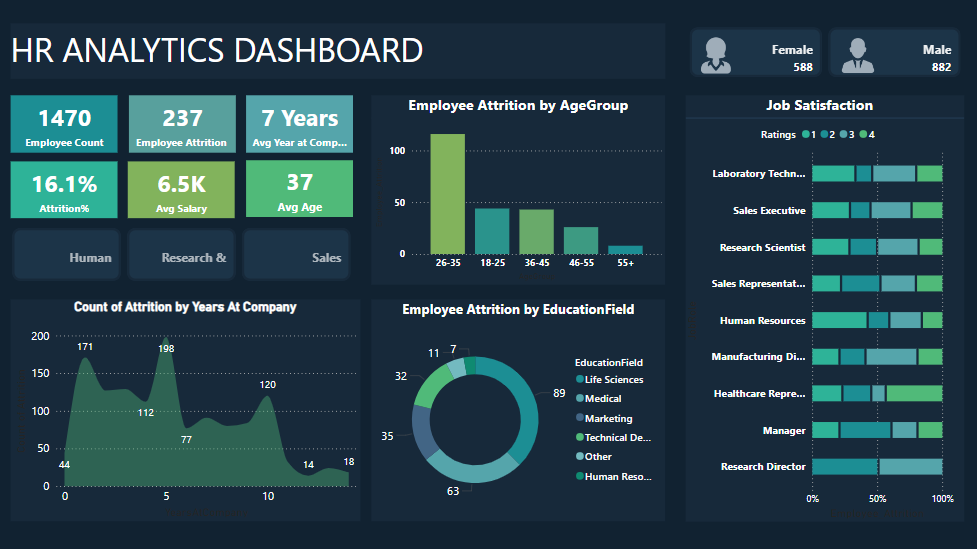

The page's visual inventory and layout, read from the dashboard file:
{"tool":"powerbi","page":{"name":"Page 1","canvas":[1280,720],"ordinal":0},"visuals":[{"type":"image","box":[1094.2,36.3,56,75.8],"z":0},{"type":"image","box":[908,44.5,57.7,59.3],"z":1000},{"type":"advancedSlicerVisual","fields":{"Values":["HR_Analytics (1).Gender"]},"box":[896.5,31.3,364.2,75.8],"z":2000},{"type":"areaChart","title":"Count of Attrition by Years At Company","fields":{"Y":["CountNonNull(HR_Analytics (1).Attrition)"],"Category":["HR_Analytics (1).YearsAtCompany"]},"box":[14.8,392.2,456.5,290],"z":3000},{"type":"card","fields":{"Values":["HR_Analytics (1).Years_with_Text"]},"box":[323,125.2,140,75],"z":4000},{"type":"card","fields":{"Values":["HR_Analytics (1).Employee_Count"]},"box":[14.8,125.2,140,75],"z":5000},{"type":"card","fields":{"Values":["HR_Analytics (1).Attrition%"]},"box":[14.8,212.6,140.1,74.2],"z":6000},{"type":"card","fields":{"Values":["HR_Analytics (1).Avg_Age"]},"box":[323,210.9,140.1,74.2],"z":7000},{"type":"donutChart","title":"Employee Attrition by EducationField","fields":{"Y":["HR_Analytics (1).Employee_Attrition"],"Category":["HR_Analytics (1).EducationField"]},"box":[486.1,392.2,384,290],"z":8000},{"type":"clusteredColumnChart","title":"Employee Attrition by AgeGroup","fields":{"Category":["HR_Analytics (1).AgeGroup"],"Y":["HR_Analytics (1).Employee_Attrition"]},"box":[486.1,125.2,384,247.2],"z":9000},{"type":"hundredPercentStackedBarChart","title":"Job Satisfaction","fields":{"Category":["HR_Analytics (1).JobRole"],"Y":["HR_Analytics (1).Employee_Attrition"],"Series":["HR_Analytics (1).JobSatisfaction"]},"box":[896.5,125.2,364.2,557],"z":10000},{"type":"card","fields":{"Values":["HR_Analytics (1).Employee_Attrition"]},"box":[169.7,125.2,140,75],"z":11000},{"type":"card","fields":{"Values":["HR_Analytics (1).Avg_Salary"]},"box":[168.1,212.6,140.1,74.2],"z":12000},{"type":"advancedSlicerVisual","fields":{"Values":["HR_Analytics (1).Department"]},"box":[11.5,293.3,454.8,79.1],"z":13000},{"type":"textbox","box":[14.8,31.3,855.3,72.5],"z":14000}]}

Visuals, with their boxes in screenshot pixels (x1, y1, x2, y2), scaled from the page's 1280x720 canvas onto the 977x549 screenshot:
image: (x1=835, y1=28, x2=878, y2=85)
image: (x1=693, y1=34, x2=737, y2=79)
advancedSlicerVisual - HR_Analytics (1).Gender: (x1=684, y1=24, x2=962, y2=82)
"Count of Attrition by Years At Company" areaChart: (x1=11, y1=299, x2=360, y2=520)
card - HR_Analytics (1).Years_with_Text: (x1=247, y1=95, x2=353, y2=153)
card - HR_Analytics (1).Employee_Count: (x1=11, y1=95, x2=118, y2=153)
card - HR_Analytics (1).Attrition%: (x1=11, y1=162, x2=118, y2=219)
card - HR_Analytics (1).Avg_Age: (x1=247, y1=161, x2=353, y2=217)
"Employee Attrition by EducationField" donutChart: (x1=371, y1=299, x2=664, y2=520)
"Employee Attrition by AgeGroup" clusteredColumnChart: (x1=371, y1=95, x2=664, y2=284)
"Job Satisfaction" hundredPercentStackedBarChart: (x1=684, y1=95, x2=962, y2=520)
card - HR_Analytics (1).Employee_Attrition: (x1=130, y1=95, x2=236, y2=153)
card - HR_Analytics (1).Avg_Salary: (x1=128, y1=162, x2=235, y2=219)
advancedSlicerVisual - HR_Analytics (1).Department: (x1=9, y1=224, x2=356, y2=284)
textbox: (x1=11, y1=24, x2=664, y2=79)
